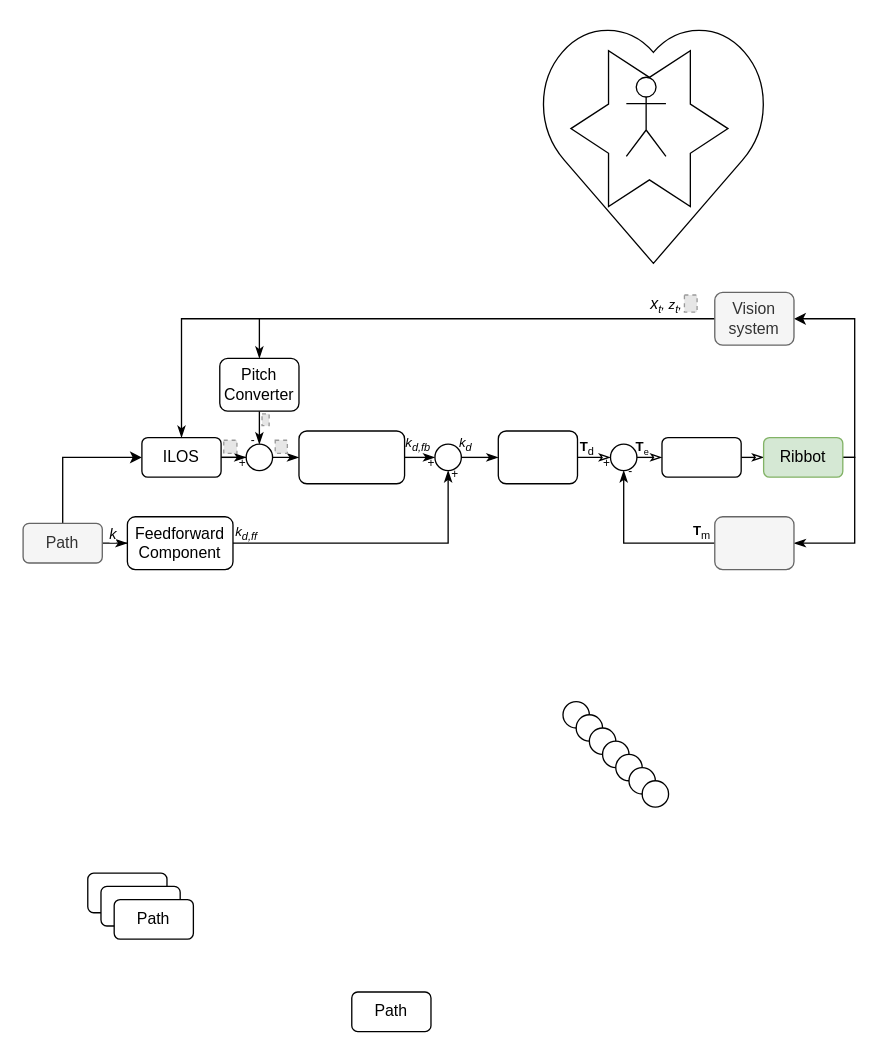
Some shapes in this 888 by 1055 pixel diagram are drawn without their labels. Grey dashed boxes stand in for pictures. The shapes that lost their labels are listed below. From the top down, each one's centre as x and y in pixels, then its label:
At [645,116]: "Rubbe".
At [351,457]: "Feedback Component".
At [537,457]: "Tension Converter".
At [701,456]: "PIDs".
At [753,542]: "Force Sensors".
